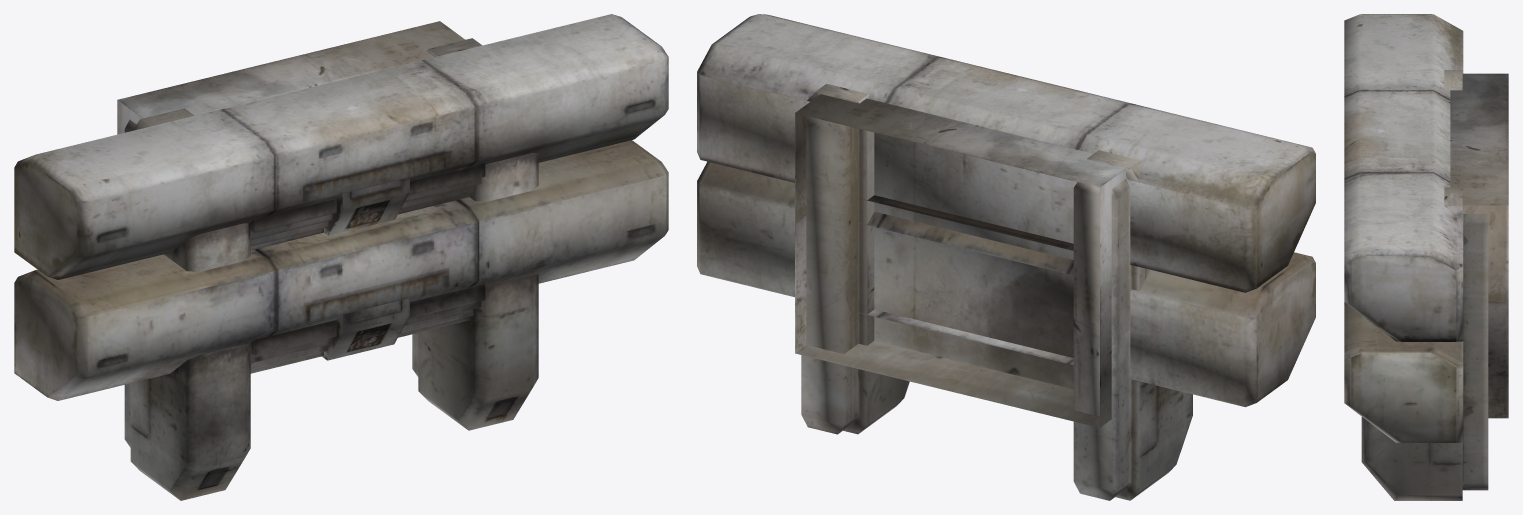
Rendered from tech_wall_theta_01.DAE.
The picture shows the model from 3 angles, left to right: view 1: azimuth 30°, elevation 25°; view 2: azimuth 150°, elevation 25°; view 3: azimuth 270°, elevation 25°; orthographic projection. The views are drawn at different scales.
Parts seen in each view (by area): view 1: tech_wall_theta_01; view 2: tech_wall_theta_01; view 3: tech_wall_theta_01.
Part boxes in pixels (box(x1,y1,x2,y2)): tech_wall_theta_01: box(14, 14, 668, 500); tech_wall_theta_01: box(697, 14, 1315, 500); tech_wall_theta_01: box(1344, 14, 1508, 500).
Size of the model in its own units: 1.54 by 0.8903 by 0.4409.
